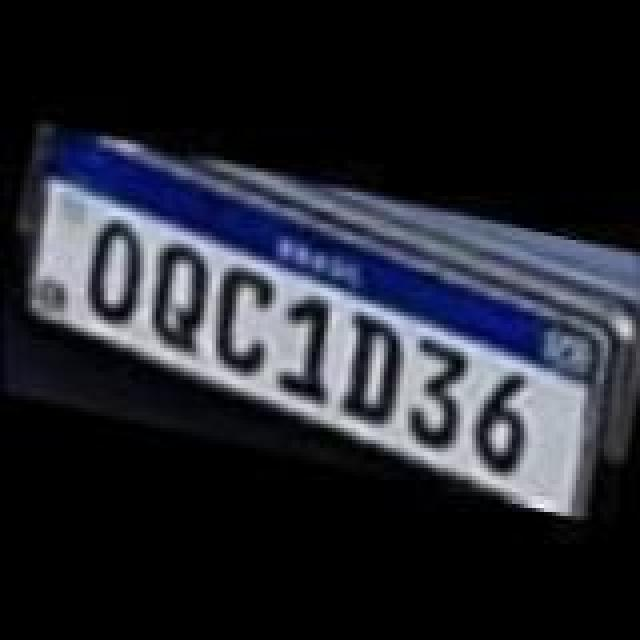1: (262, 284, 350, 408)
3: (392, 330, 480, 454)
6: (462, 358, 538, 470)
C: (200, 258, 284, 374)
D: (322, 304, 418, 428)
O: (76, 214, 160, 330)
Q: (132, 238, 224, 362)
